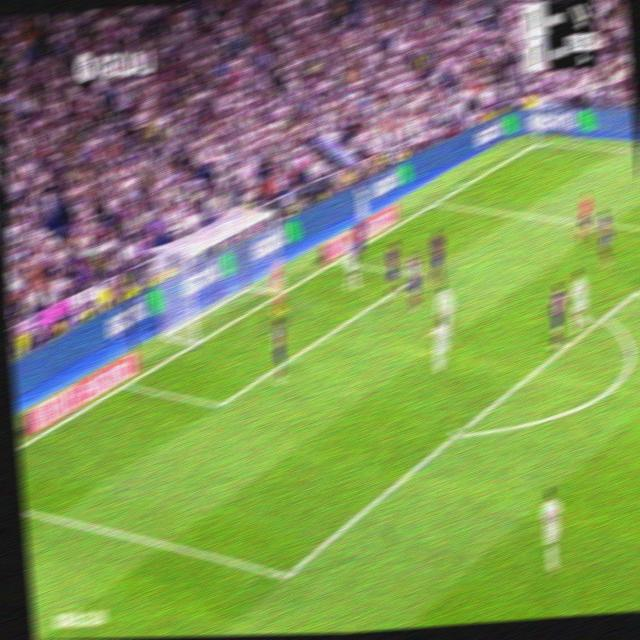bigarea_bottom_inner: (276, 556, 297, 594)
bigarea_top_outter: (428, 193, 443, 211)
bottom_arc_area_intersection: (449, 418, 467, 447)
corner: (530, 136, 546, 149)
smallarea_bottom_outter: (119, 376, 133, 392)
top_arc_area_intersection: (597, 306, 612, 327)
